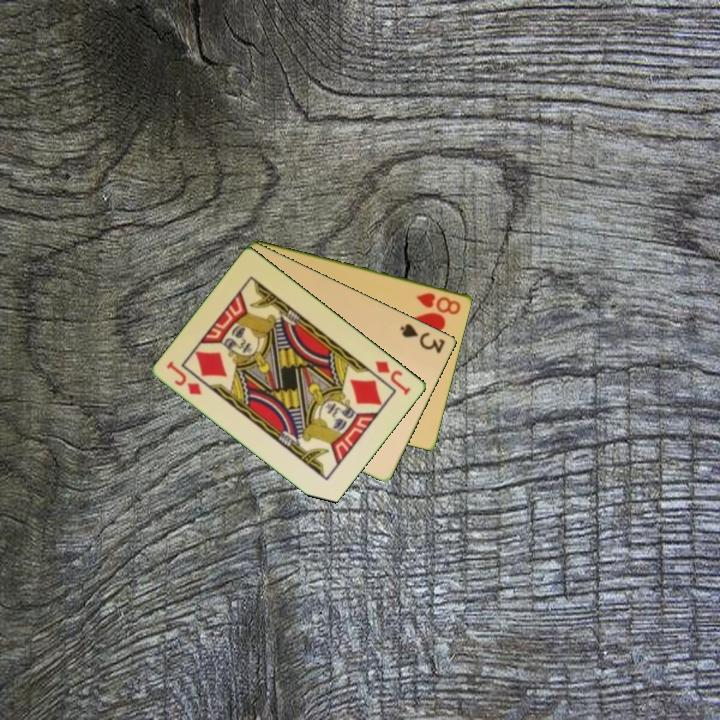3s: (397, 320, 449, 356)
8h: (413, 289, 464, 317)
Jd: (372, 357, 414, 398), (163, 357, 205, 398)
